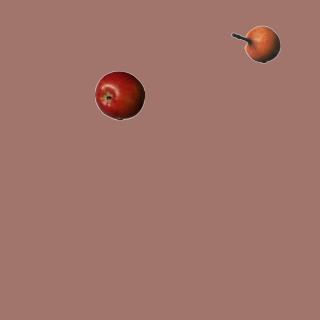Apple Braeburn: (94, 70, 144, 120)
Granadilla: (230, 19, 280, 69)
